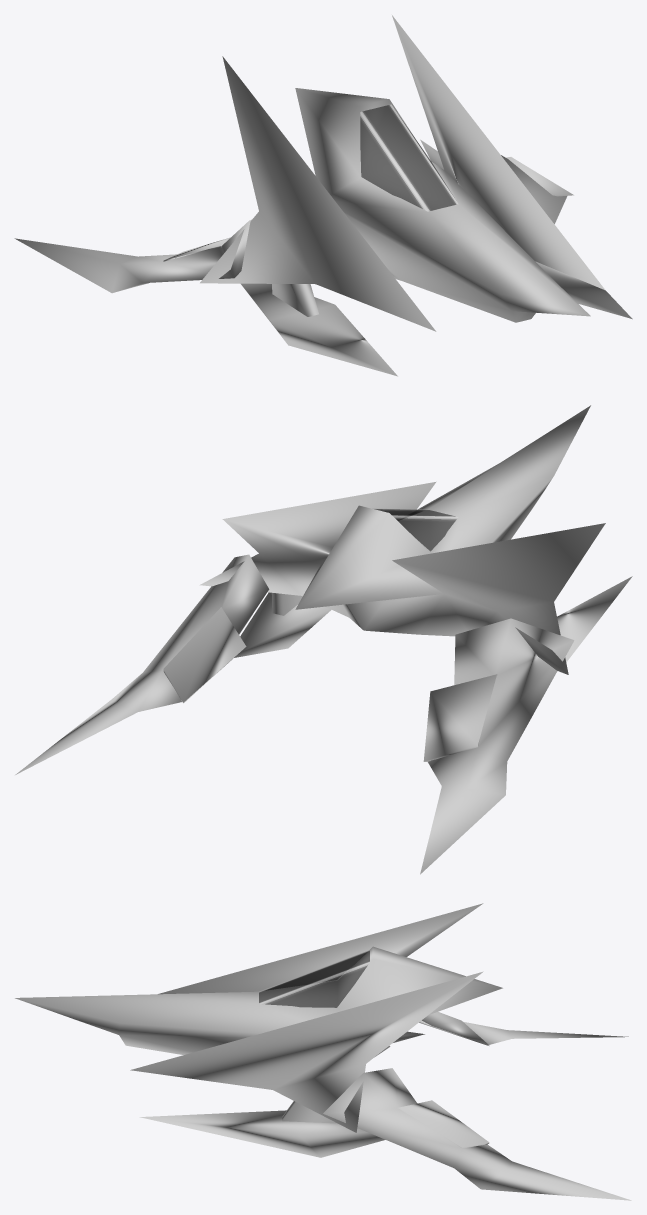
The model's file is arwingNew28.obj.
3 views of the same model, one above another, from view 1: azimuth 30°, elevation 25°; view 2: azimuth 150°, elevation 25°; view 3: azimuth 270°, elevation 25° (orthographic). The views are drawn at different scales.
Visible parts, largest first — view 1: Arwing.002; view 2: Arwing.002; view 3: Arwing.002.
Part boxes in pixels (bbox=[...]): Arwing.002: bbox=[14, 15, 632, 376]; Arwing.002: bbox=[15, 405, 632, 874]; Arwing.002: bbox=[15, 903, 631, 1200].
Size of the model in its own units: 4.15 by 2.15 by 6.63.
